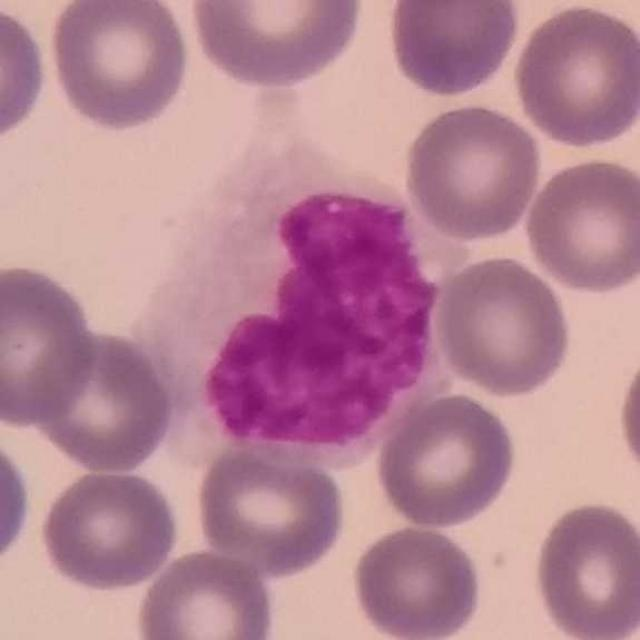Monocyte: (146, 93, 463, 466)
RBC: (25, 326, 178, 475), (192, 438, 350, 578), (431, 252, 575, 399), (372, 389, 521, 531), (401, 99, 545, 244), (43, 0, 195, 135), (508, 0, 640, 151), (36, 466, 182, 594), (520, 154, 640, 296), (0, 260, 100, 428), (348, 521, 486, 640), (186, 0, 367, 89), (528, 497, 640, 640), (383, 0, 523, 100), (132, 546, 278, 640), (0, 2, 52, 146), (0, 426, 35, 576), (614, 337, 640, 492)
